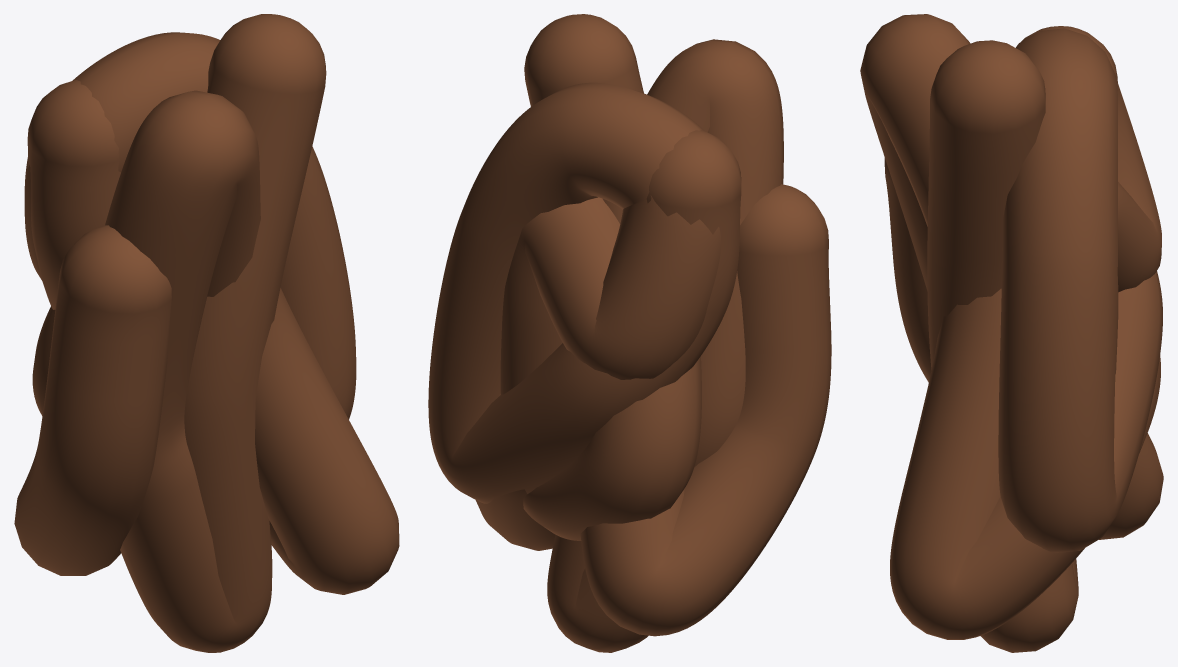
The model's file is Mud01.fbx.
3 views of the same model, side by side, from view 1: azimuth 30°, elevation 25°; view 2: azimuth 150°, elevation 25°; view 3: azimuth 270°, elevation 25° (orthographic). The views are drawn at different scales.
Visible parts, largest first — view 1: node_id32 (×2); view 2: node_id32 (×2); view 3: node_id32 (×2).
Boxes of the visible parts, bbox=[...] form: node_id32 (×2): bbox=[14, 14, 399, 652]; node_id32 (×2): bbox=[428, 14, 831, 652]; node_id32 (×2): bbox=[860, 14, 1163, 652].
Bounding box in the file's own units: 0.7414 × 1.28 × 0.5635.
2 materials, 2 textured.
